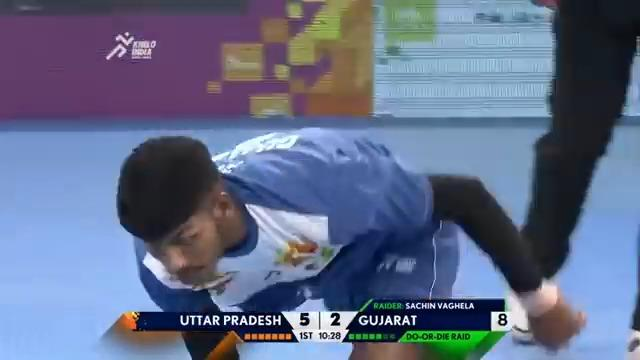Player: (115, 126, 588, 358)
referee: (501, 0, 639, 352)
